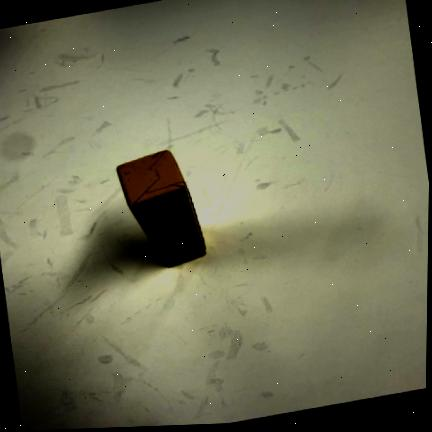gum_yellow: (118, 149, 208, 267)
